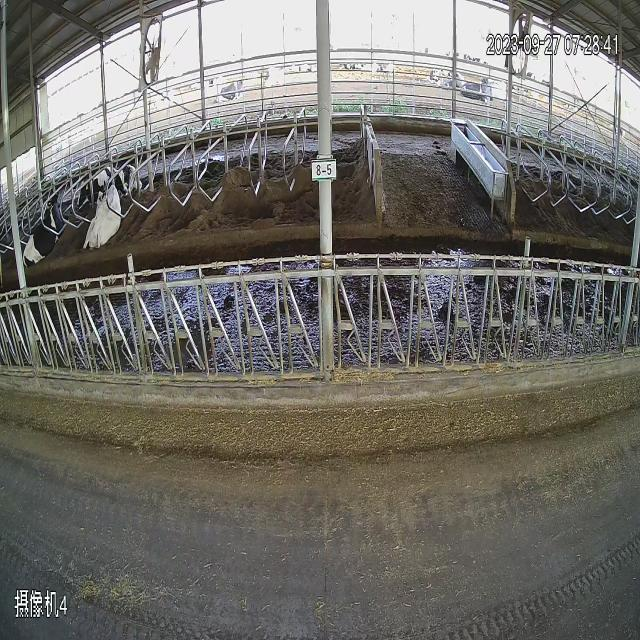lying down: (72, 156, 166, 292), (22, 166, 72, 318)
